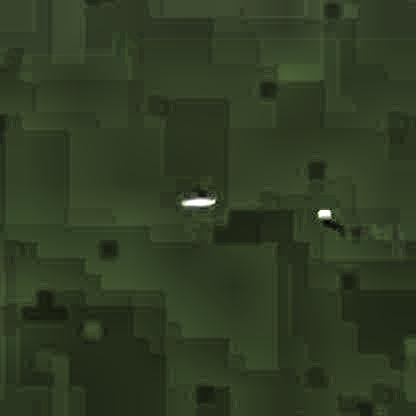golfball: (314, 205, 329, 220)
